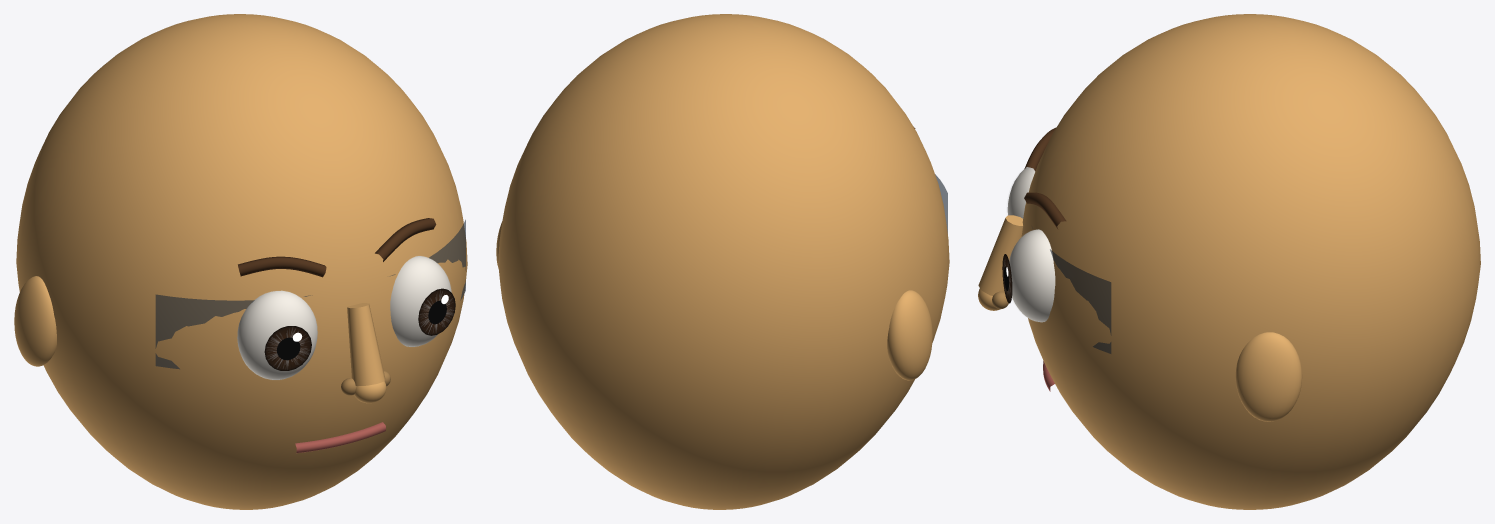
Rendered from 07-visiere.glb.
The picture shows the model from 3 angles, left to right: view 1: azimuth 30°, elevation 25°; view 2: azimuth 150°, elevation 25°; view 3: azimuth 270°, elevation 25°; orthographic projection.
Size of the model in its own units: 0.3087 by 0.321 by 0.3166.
Materials: 10 (1 with a texture image).
